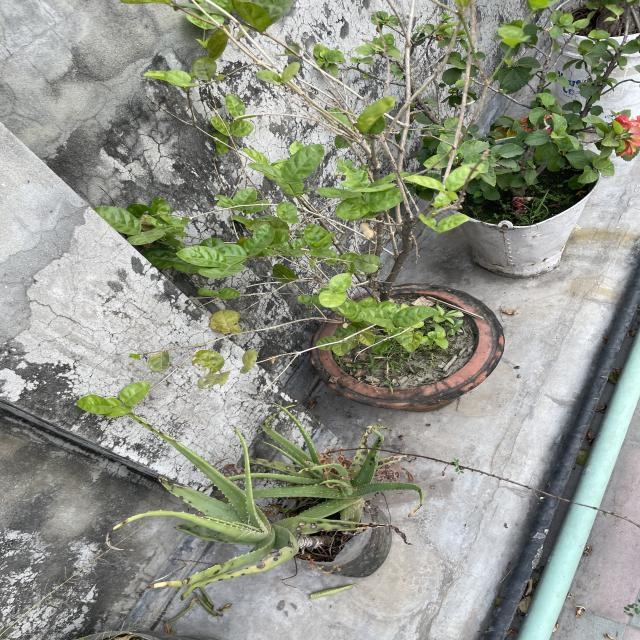Breeding Place: (314, 285, 518, 413), (456, 140, 609, 276), (264, 479, 397, 577)
